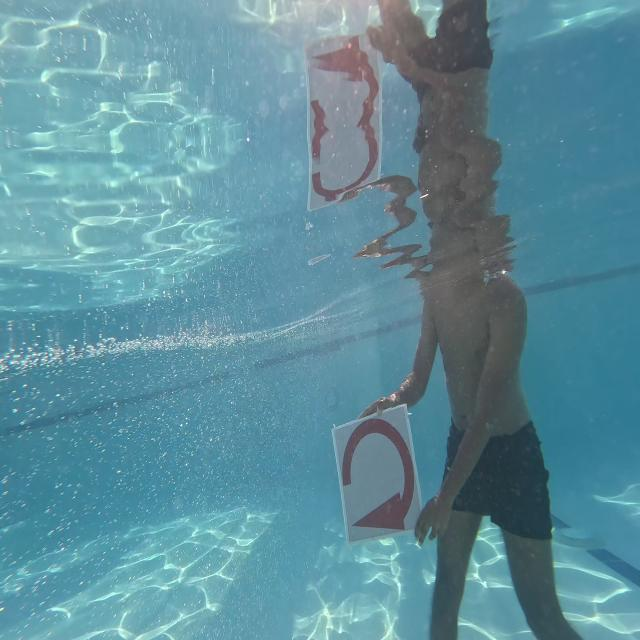red_side: (328, 406, 433, 547)
